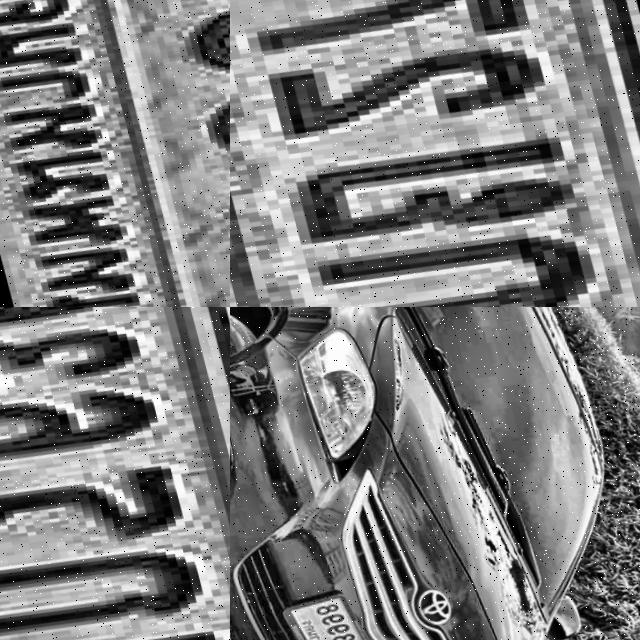license-plate: (230, 0, 640, 307), (0, 307, 230, 640), (0, 0, 230, 307), (269, 575, 389, 640)
